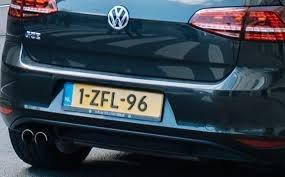license-plates: (64, 82, 164, 120)
